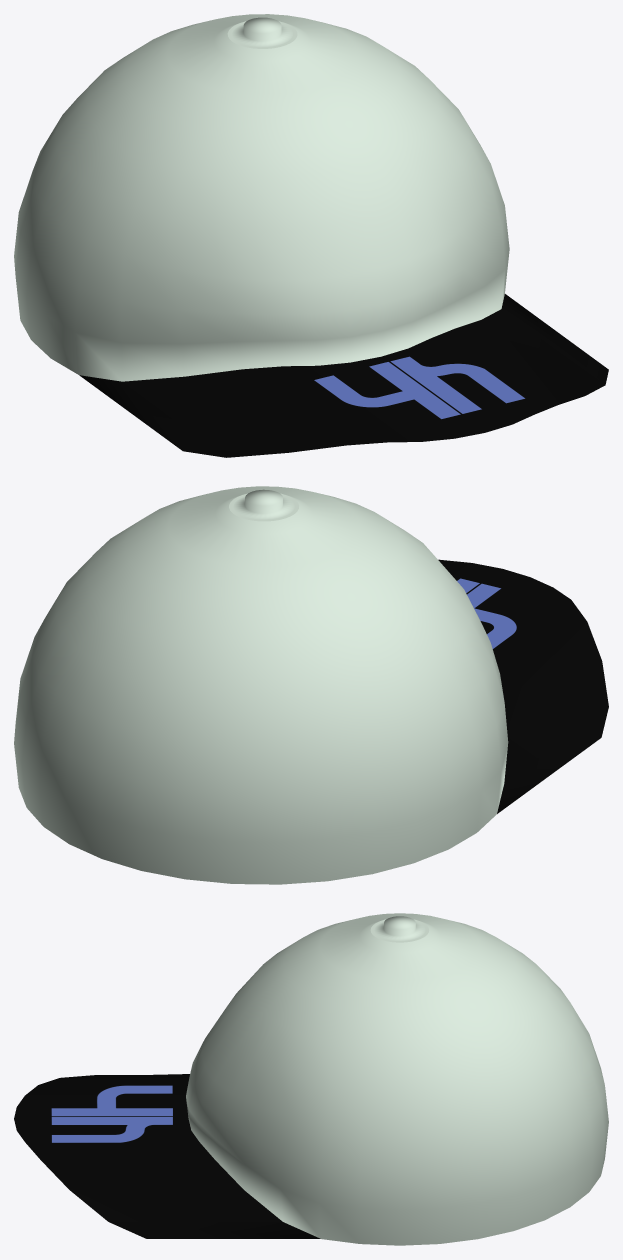
Rendered from cap.glb.
3 renders of one model, top to bottom at view 1: azimuth 30°, elevation 25°; view 2: azimuth 150°, elevation 25°; view 3: azimuth 270°, elevation 25°, orthographic. The views are drawn at different scales.
Visible parts, largest first — view 1: Sphere.001, Vector (1); view 2: Sphere.001, Vector (1); view 3: Sphere.001, Vector (1).
Boxes of the visible parts, <box> form: Sphere.001: <box>14,14,608,457</box>; Vector (1): <box>314,356,525,419</box>; Sphere.001: <box>14,486,608,884</box>; Vector (1): <box>457,578,516,648</box>; Sphere.001: <box>14,913,608,1245</box>; Vector (1): <box>51,1085,172,1142</box>.
Bounding box in the file's own units: 2 × 1.25 × 2.85.
3 materials, 1 textured.
